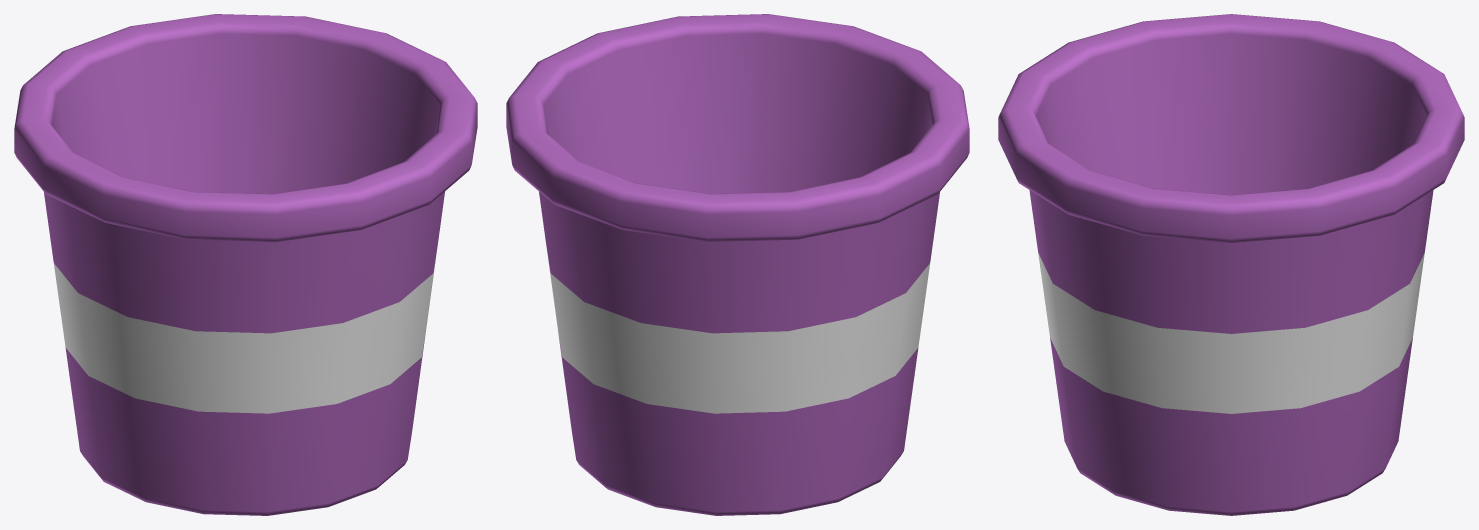
File: Bucket_Pink.fbx
The picture shows the model from 3 angles, left to right: view 1: azimuth 30°, elevation 25°; view 2: azimuth 150°, elevation 25°; view 3: azimuth 270°, elevation 25°; orthographic projection.
Parts seen in each view (by area): view 1: Bucket_Pink; view 2: Bucket_Pink; view 3: Bucket_Pink.
Part boxes in pixels (box(x1,y1,x2,y2)): Bucket_Pink: box(14, 14, 477, 515); Bucket_Pink: box(506, 14, 969, 515); Bucket_Pink: box(998, 14, 1464, 515).
Size of the model in its own units: 53.02 by 42.66 by 53.02.
Materials: 1 (1 with a texture image).
